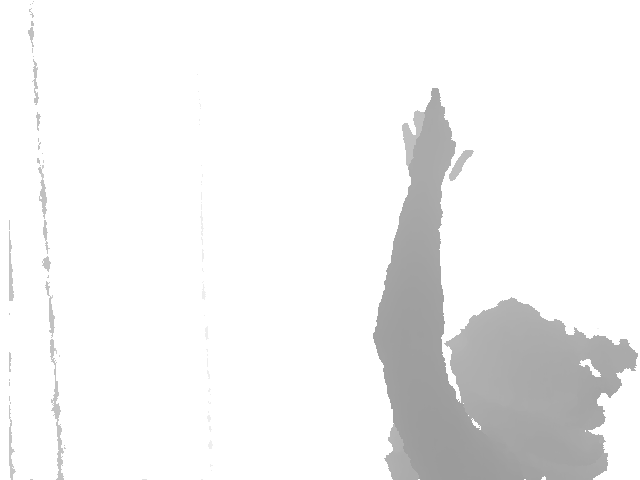hand: (403, 86, 468, 179)
head: (445, 290, 640, 444)
person: (372, 85, 640, 480)
